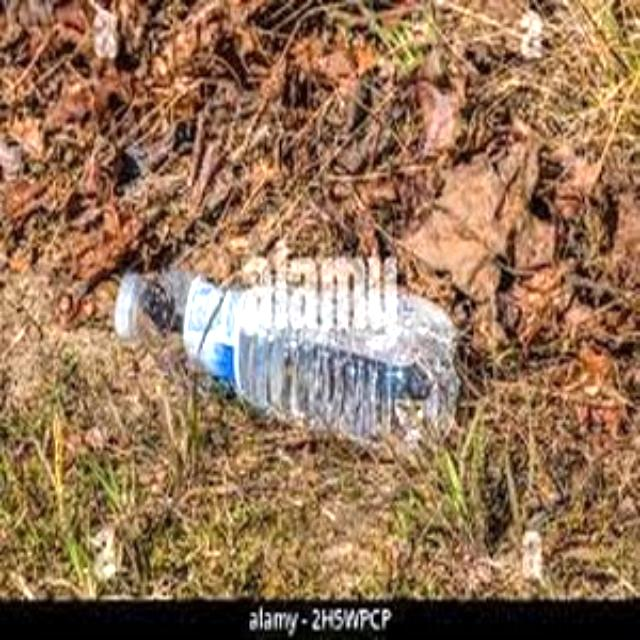Plastic: (105, 264, 451, 450)
